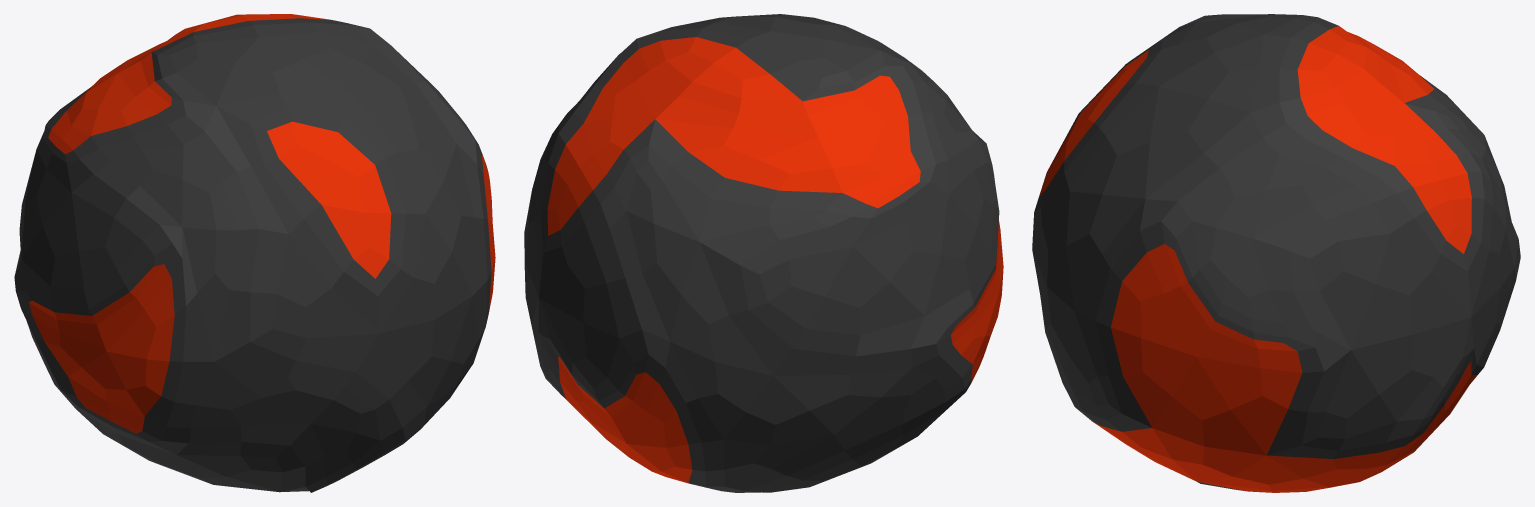
The model's file is destroyPlanet.fbx.
3 views of the same model, side by side, from view 1: azimuth 30°, elevation 25°; view 2: azimuth 150°, elevation 25°; view 3: azimuth 270°, elevation 25° (orthographic).
Parts seen in each view (by area): view 1: Икосфера; view 2: Икосфера; view 3: Икосфера.
Boxes of the visible parts, x1,y1,x2,y2 form: Икосфера: (14,14,495,492); Икосфера: (524,14,1003,492); Икосфера: (1032,14,1520,492).
Bounding box in the file's own units: 772 × 777 × 779.
